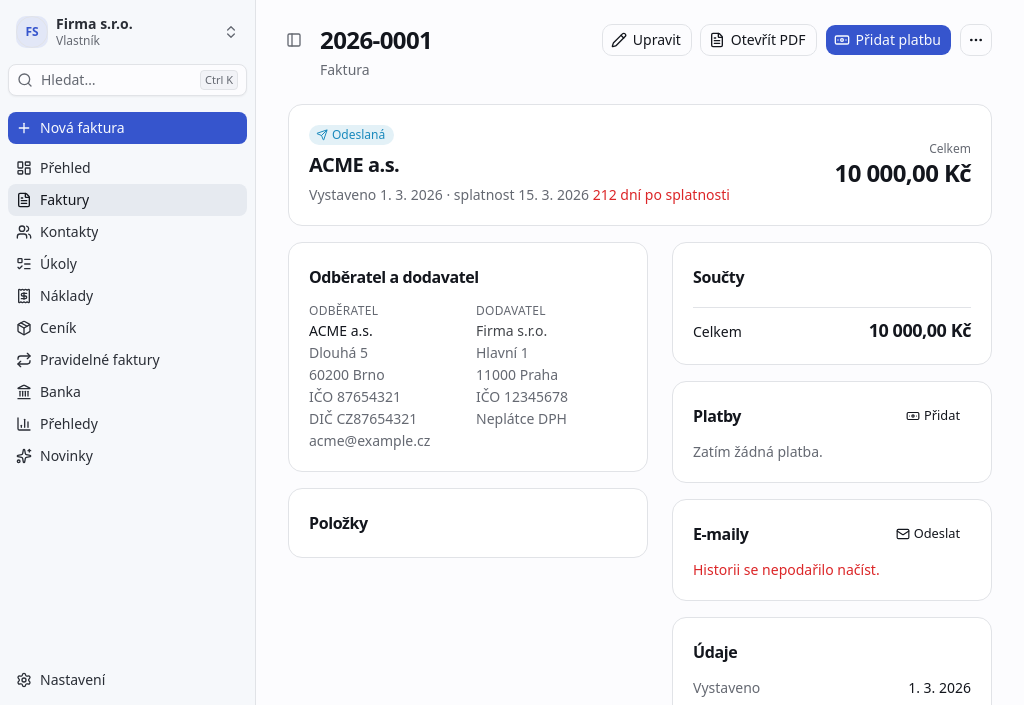
Test: detail faktury — platba › 422 z API ukáže u pole částky
Expected: the heading "2026-0001" is shown, [320,23,432,56]
Click the button "Přidat platbu".
click(888, 40)  # box [825,24,952,56]
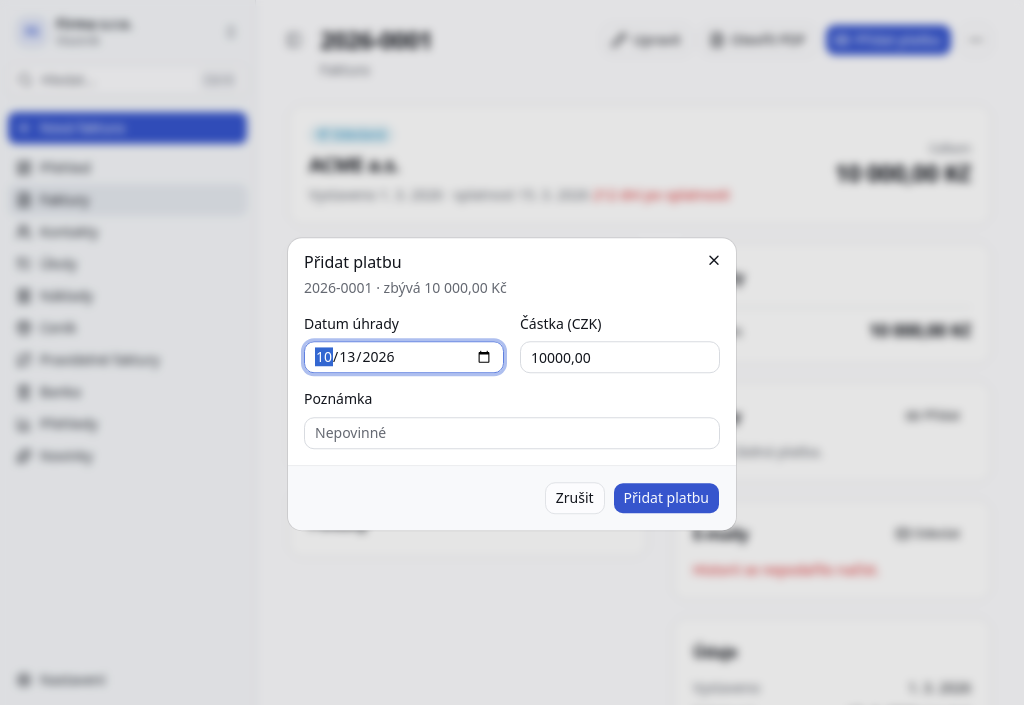
Replace the text in the field labelled "Částka (CZK)" with "0,99" at (620,358), box [520,342,720,374]
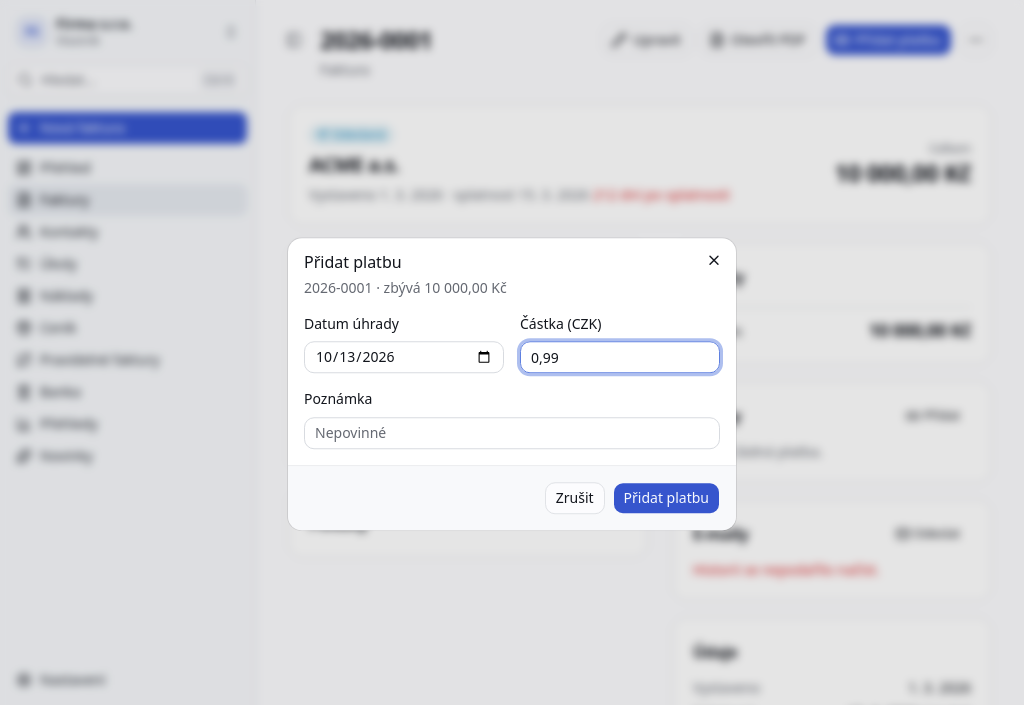
Click the button "Přidat platbu".
click(666, 498)  # box [613,482,720,514]
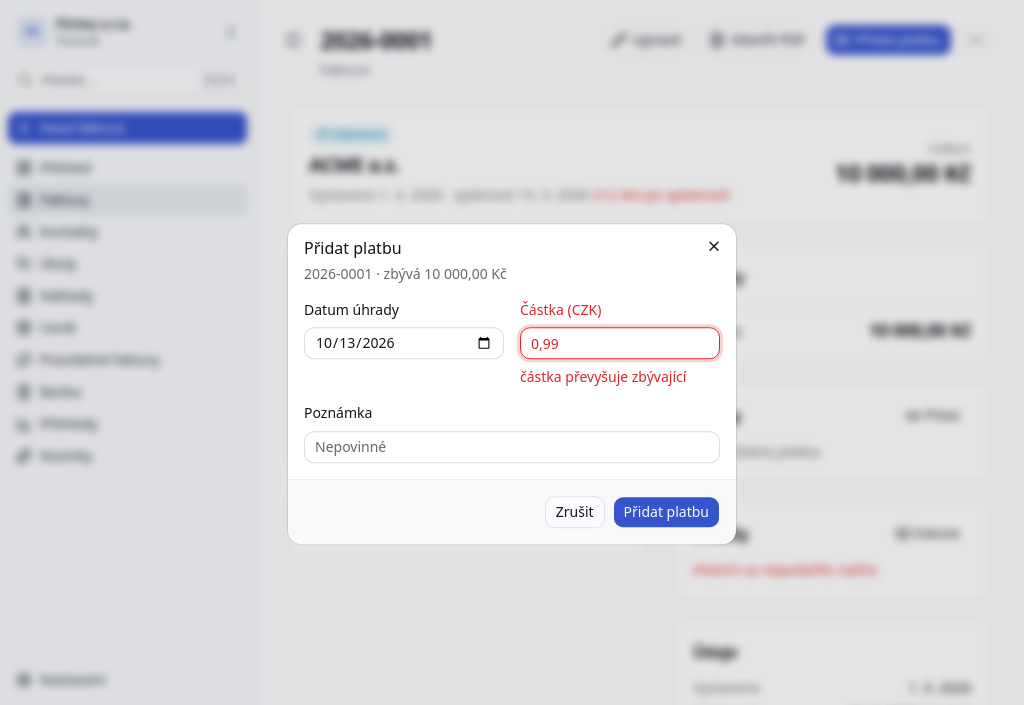
Result: the text "částka převyšuje zbývající" is shown at [520,368,686,386]
